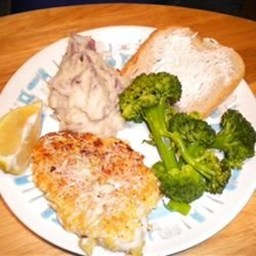background: (0, 9, 102, 102)
